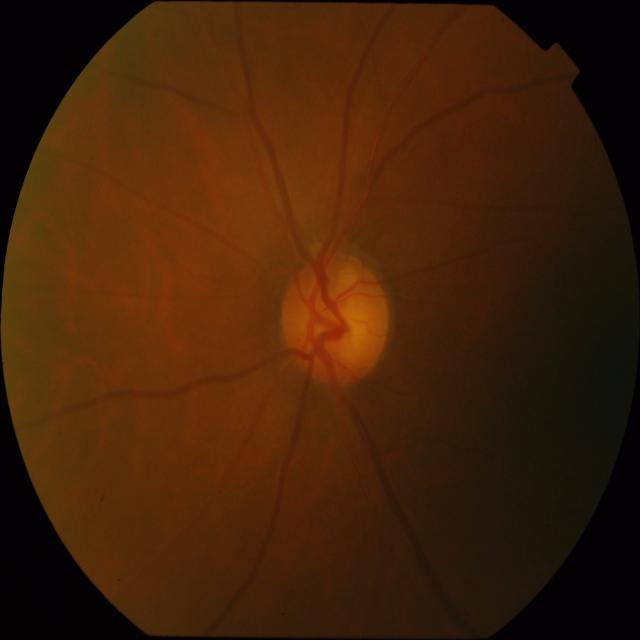OC: (300, 268, 373, 356)
OD: (281, 252, 390, 385)
